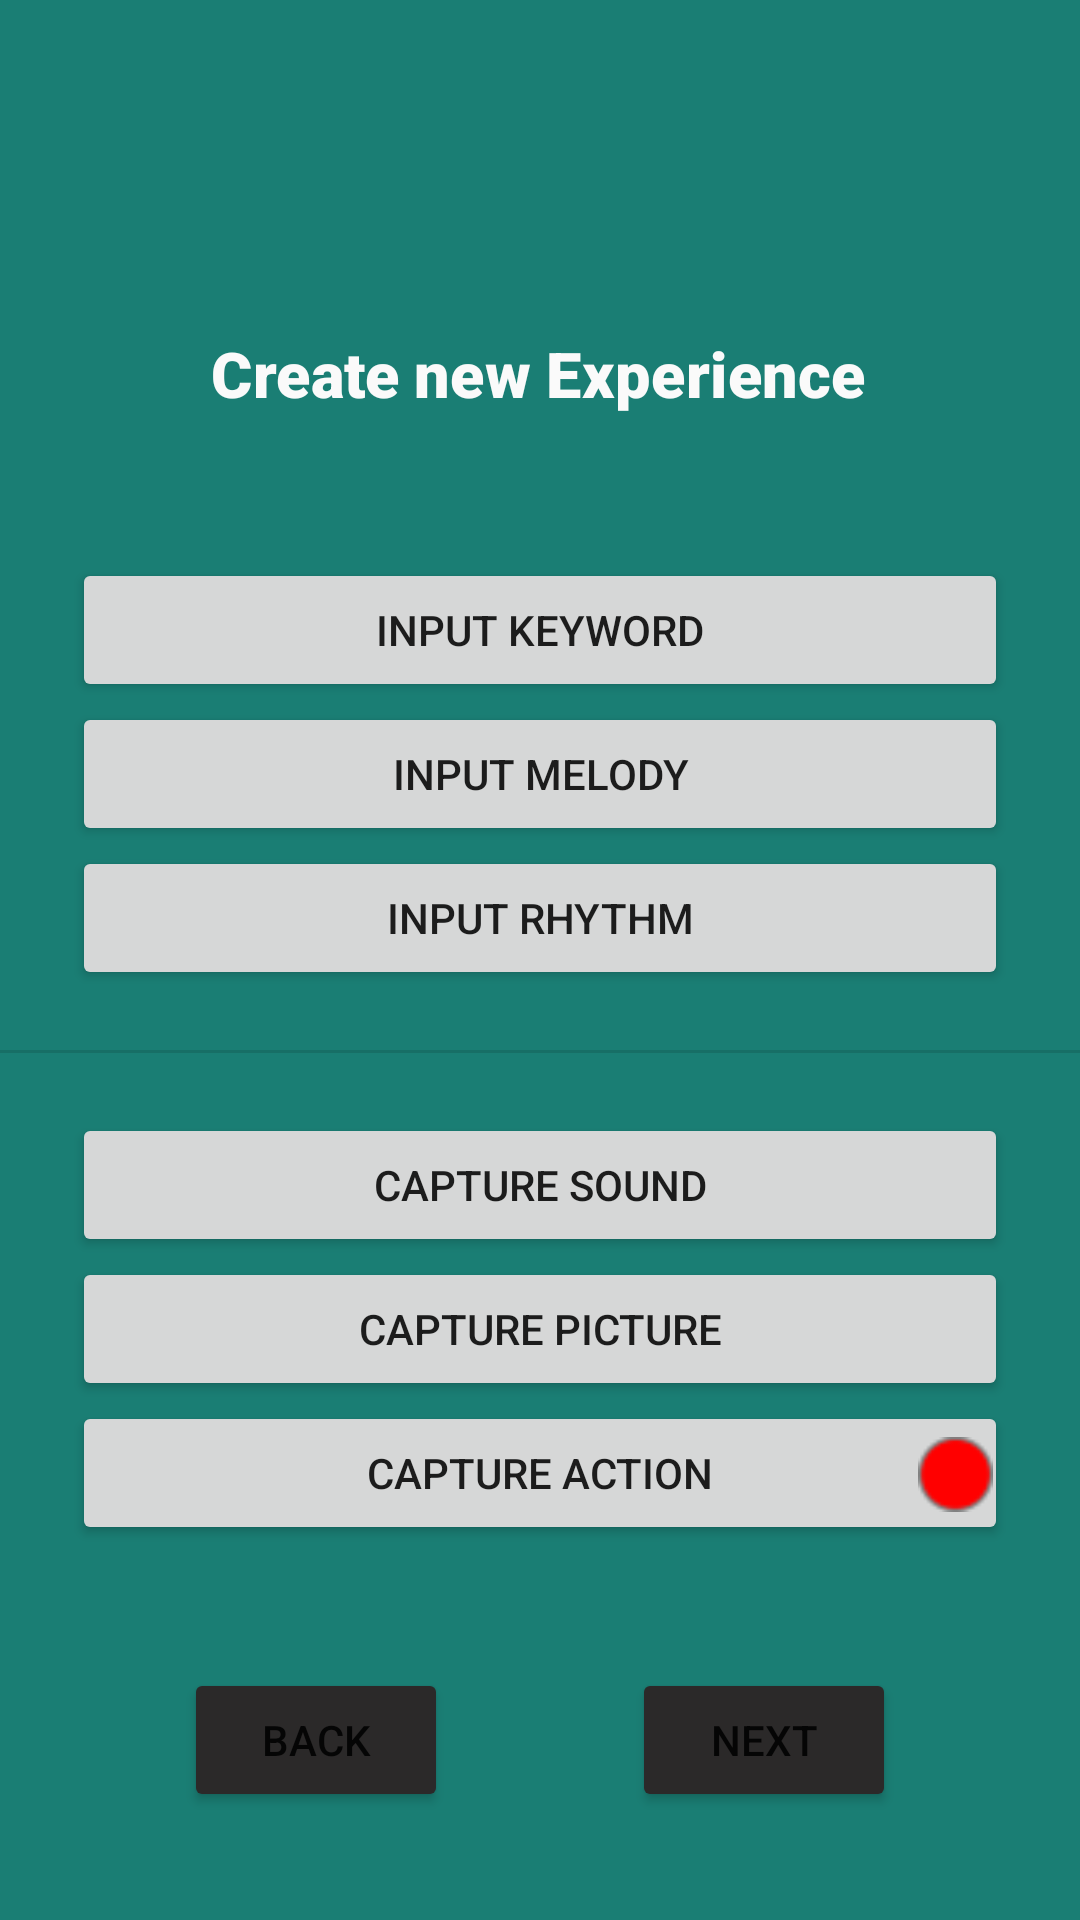

Screen size 1080×1920. Icon name, then its box in pixels as bbox=[x1, y1, x2, y2]:
rec on: bbox=[918, 1437, 993, 1512]
